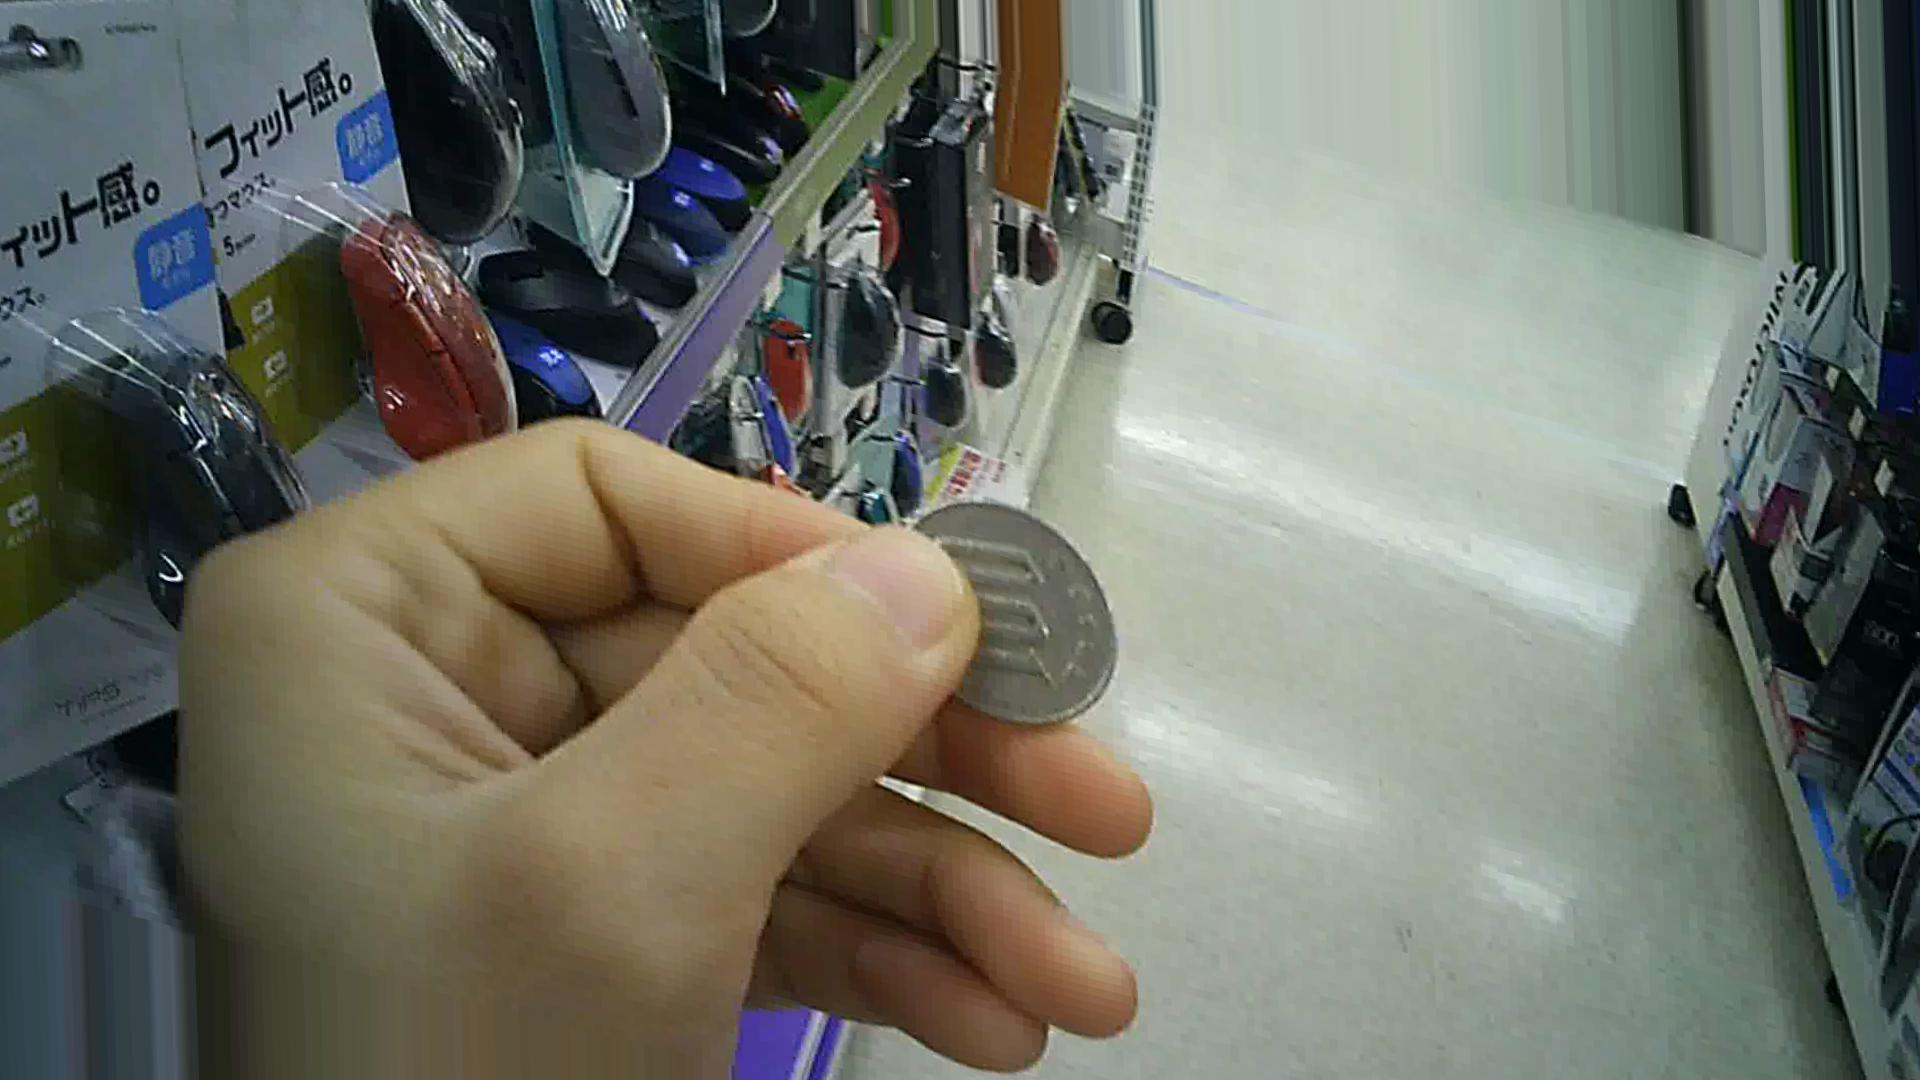100 Yen: (887, 491, 1113, 727)
